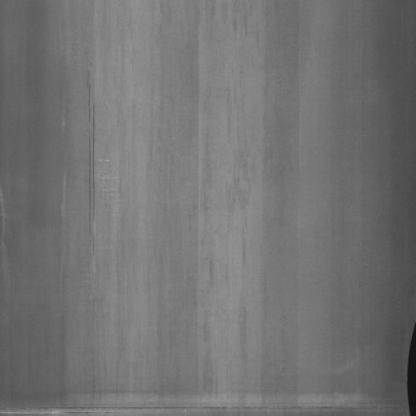welding_line: (1, 398, 410, 414)
